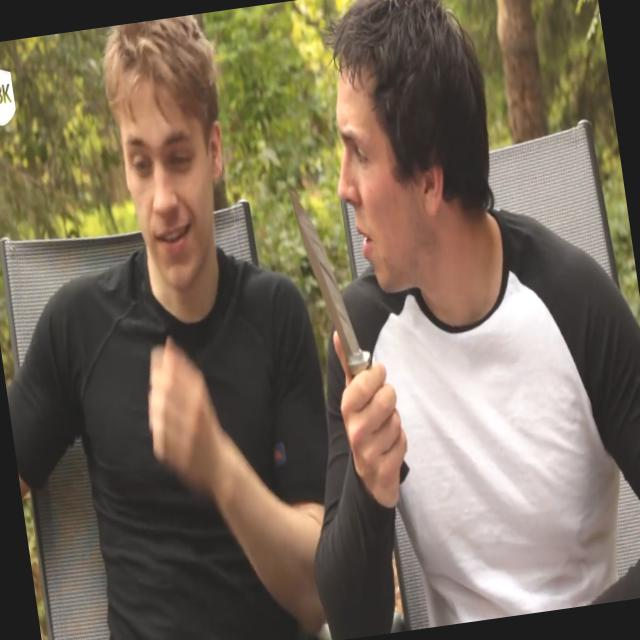knife: (273, 145, 405, 451)
